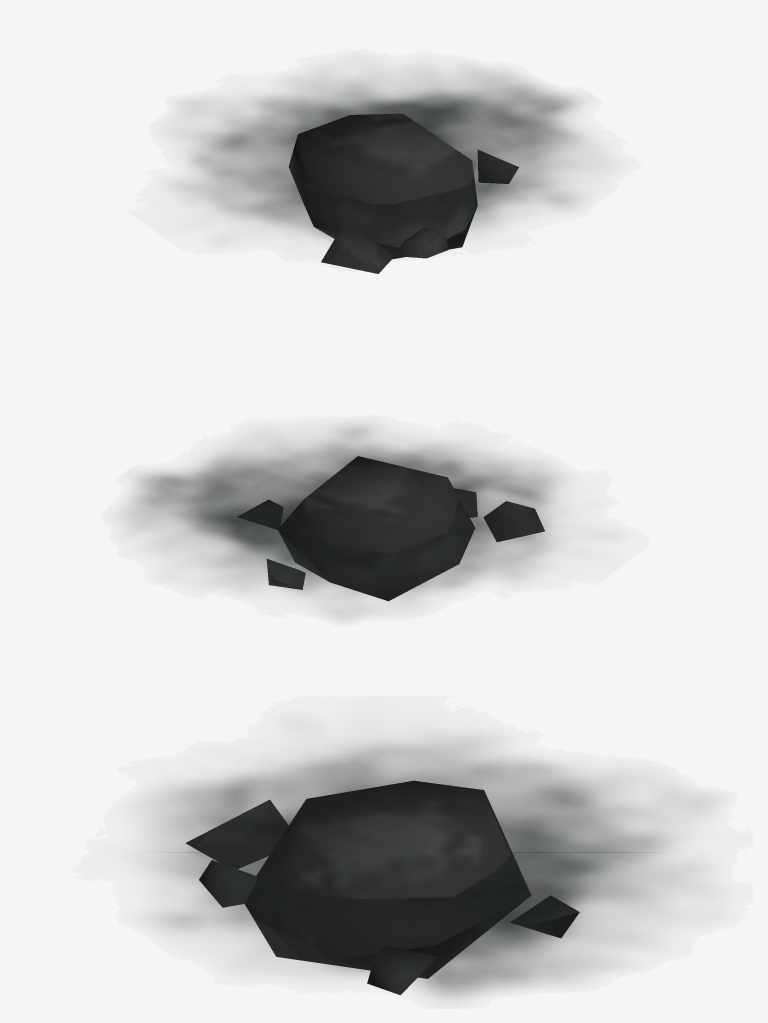
The picture shows the model from 3 angles, top to bottom: view 1: azimuth 30°, elevation 25°; view 2: azimuth 150°, elevation 25°; view 3: azimuth 270°, elevation 25°; orthographic projection. The views are drawn at different scales.
Parts seen in each view (by area): view 1: plants_small_rock_c-1-underlay, plants_small_rock_c-0-plant; view 2: plants_small_rock_c-1-underlay, plants_small_rock_c-0-plant; view 3: plants_small_rock_c-1-underlay, plants_small_rock_c-0-plant.
Boxes of the visible parts, x1,y1,x2,y2 form: plants_small_rock_c-1-underlay: [181, 71, 583, 250]; plants_small_rock_c-0-plant: [289, 113, 518, 273]; plants_small_rock_c-1-underlay: [127, 426, 557, 614]; plants_small_rock_c-0-plant: [238, 456, 544, 601]; plants_small_rock_c-1-underlay: [147, 738, 700, 997]; plants_small_rock_c-0-plant: [185, 780, 579, 995].
Bounding box in the file's own units: 2 × 0.3295 × 2.
Materials: 2 (2 with a texture image).
